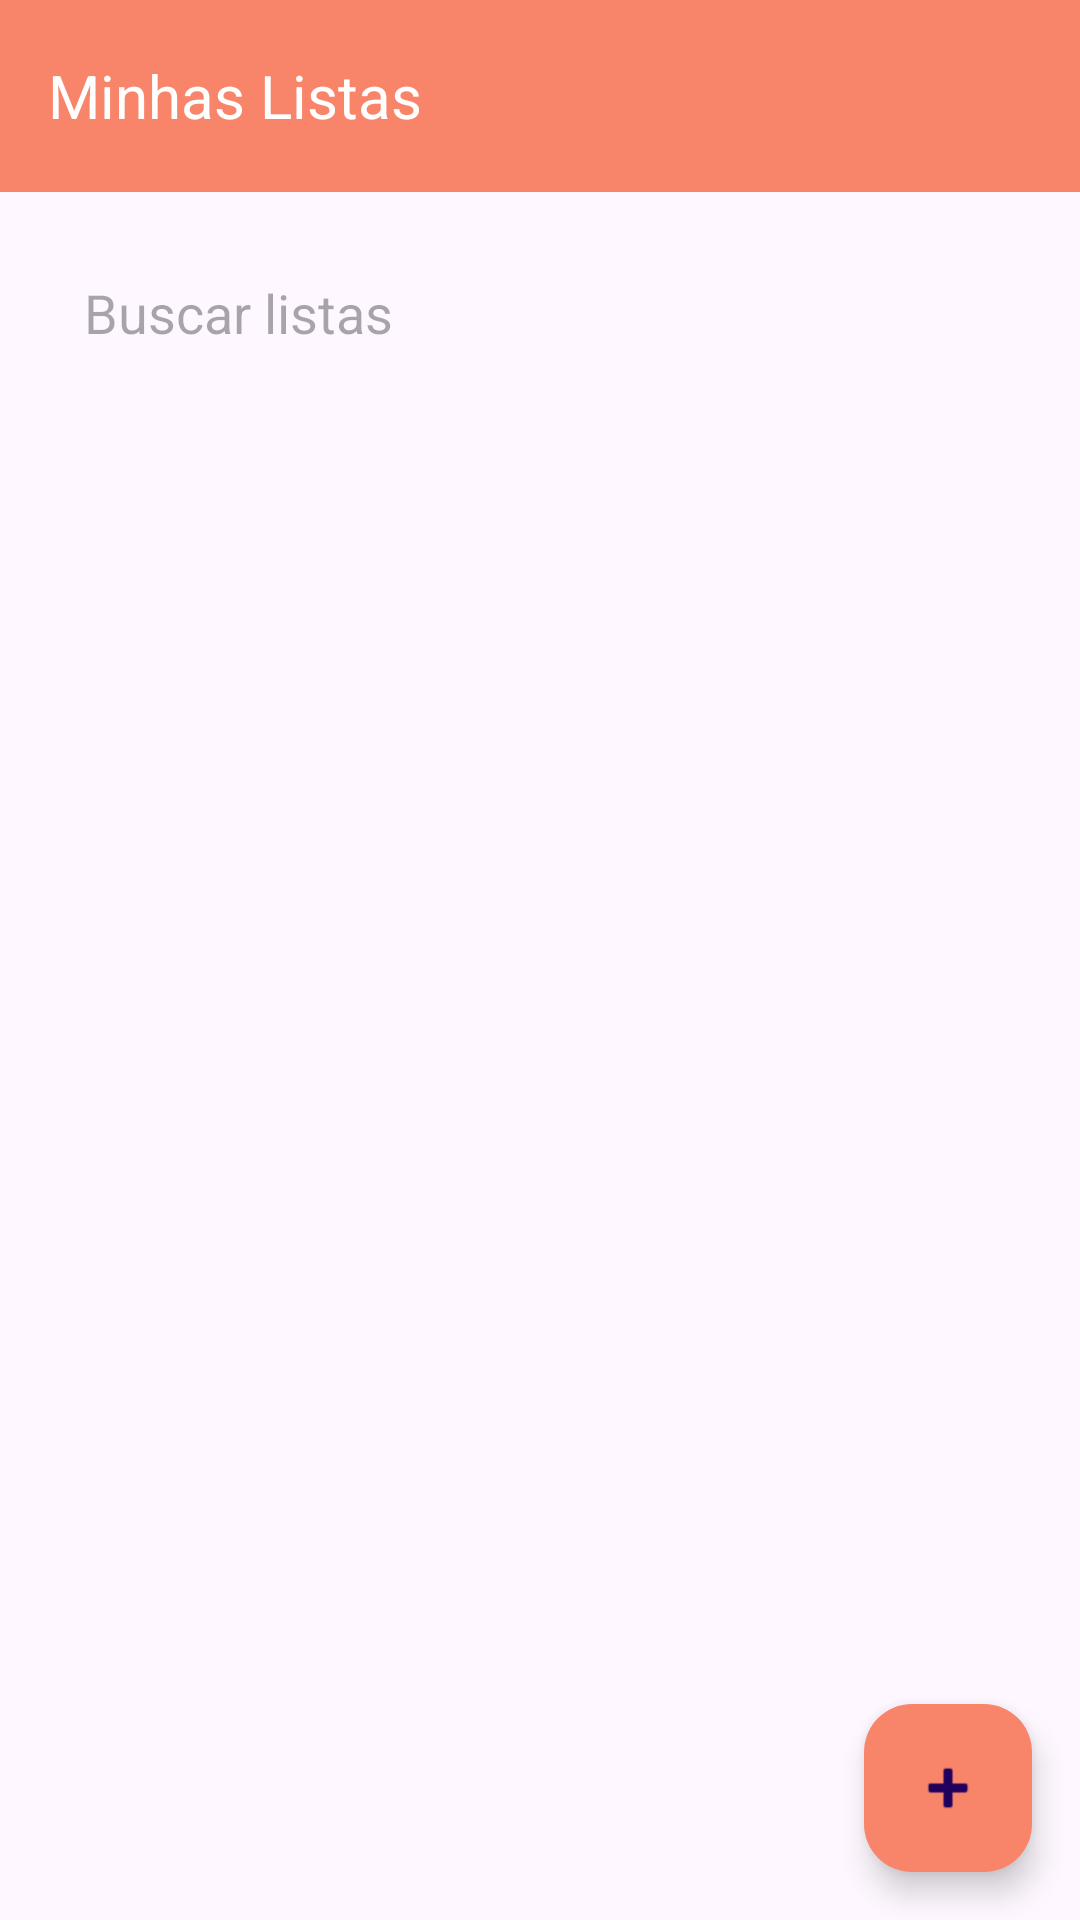

Screen size 1080*1920. Icon name, then its center in pixels as point (x, y):
Adicionar Lista: point (948, 1788)
